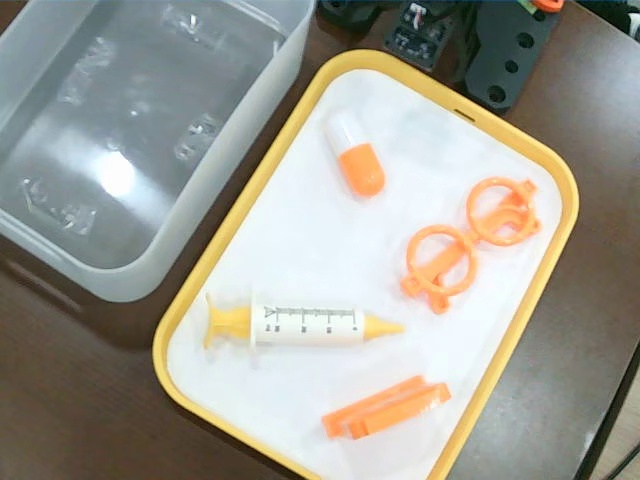pill: (320, 109, 386, 196)
syringe: (191, 292, 408, 348)
